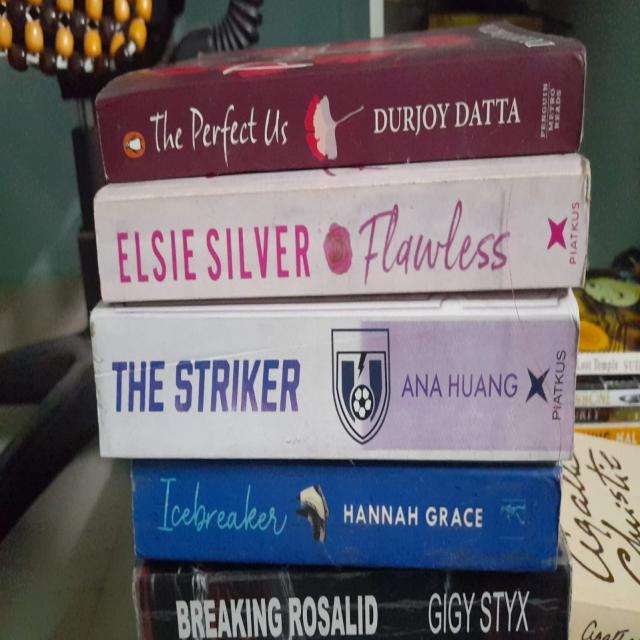book: (90, 314, 578, 462), (97, 159, 585, 303), (98, 54, 582, 184), (129, 443, 559, 567), (133, 566, 570, 639)
